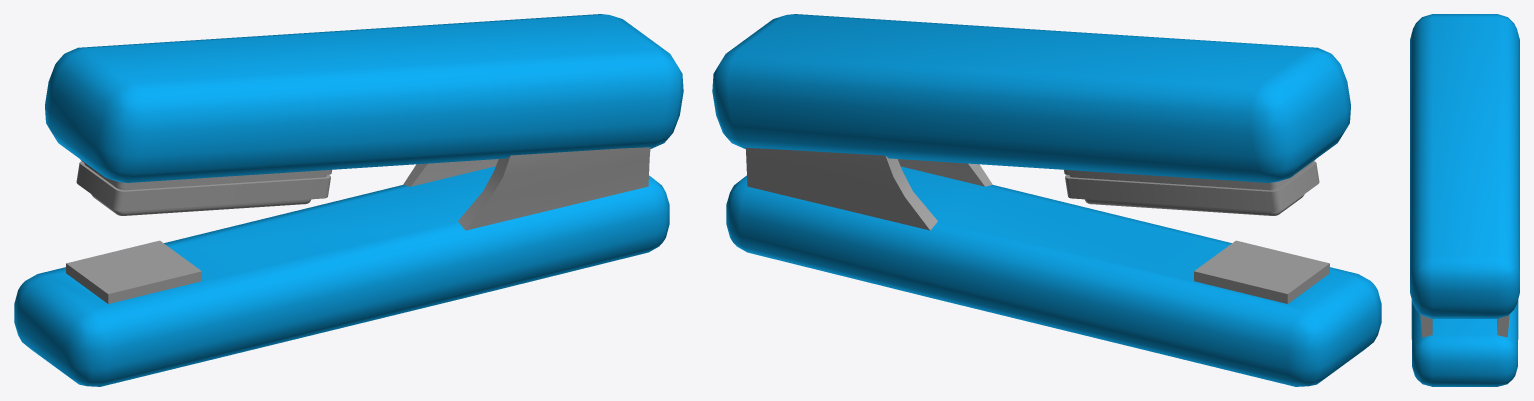
File: Staple01.fbx
The picture shows the model from 3 angles, left to right: view 1: azimuth 30°, elevation 25°; view 2: azimuth 150°, elevation 25°; view 3: azimuth 270°, elevation 25°; orthographic projection. The views are drawn at different scales.
Parts seen in each view (by area): view 1: Staple01; view 2: Staple01; view 3: Staple01.
Boxes of the visible parts, x1,y1,x2,y2 form: Staple01: (14,14,683,386); Staple01: (712,14,1381,386); Staple01: (1410,14,1519,386).
Size of the model in its own units: 0.1705 by 0.0387 by 0.0774.
